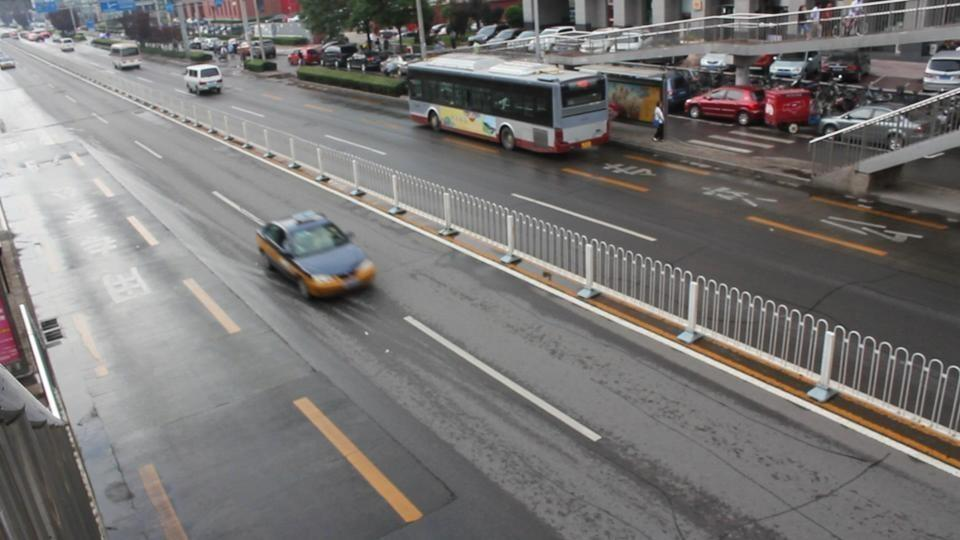car: (254, 209, 378, 300), (816, 105, 923, 146), (684, 85, 768, 126), (807, 51, 873, 83), (767, 51, 822, 86), (922, 48, 960, 90), (468, 25, 529, 49), (319, 45, 373, 69), (184, 64, 224, 95), (380, 52, 422, 76), (109, 41, 143, 70), (347, 51, 388, 73), (287, 47, 321, 66), (244, 40, 277, 59), (23, 28, 52, 42), (59, 37, 75, 52), (0, 56, 16, 71)
